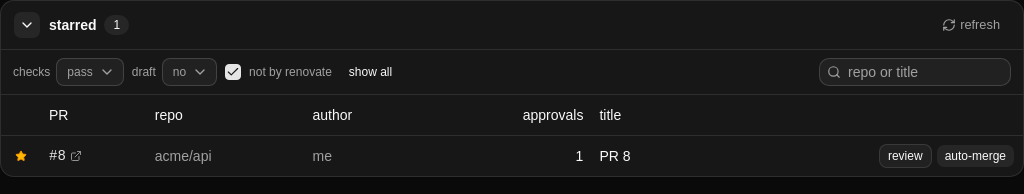
PrTable › drops merged PRs and unstars
The image size is (1024, 194).
expect the text "PR 8" is shown: met, box [591,135,694,176]
Click the button named "unstar acme/api#8" at [21, 156], box [9,144,33,168]
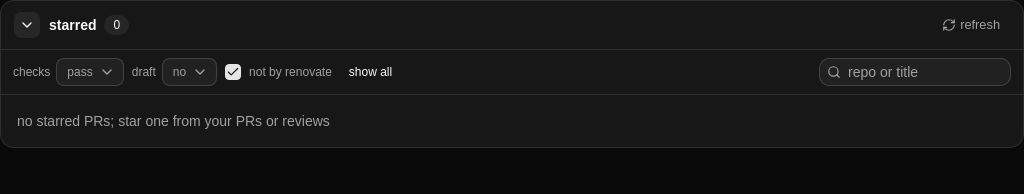
expect the text "no starred PRs; star one from your PRs or reviews" is shown: met, box [17,113,330,129]
